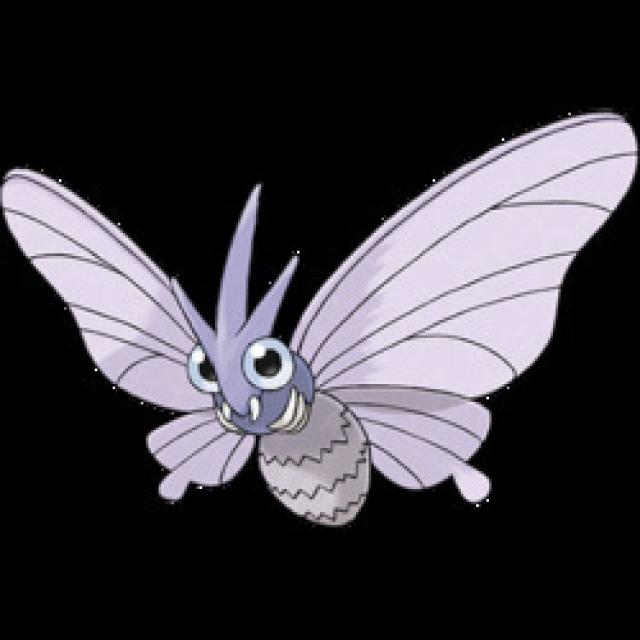Venomoth: (129, 183, 484, 508)
